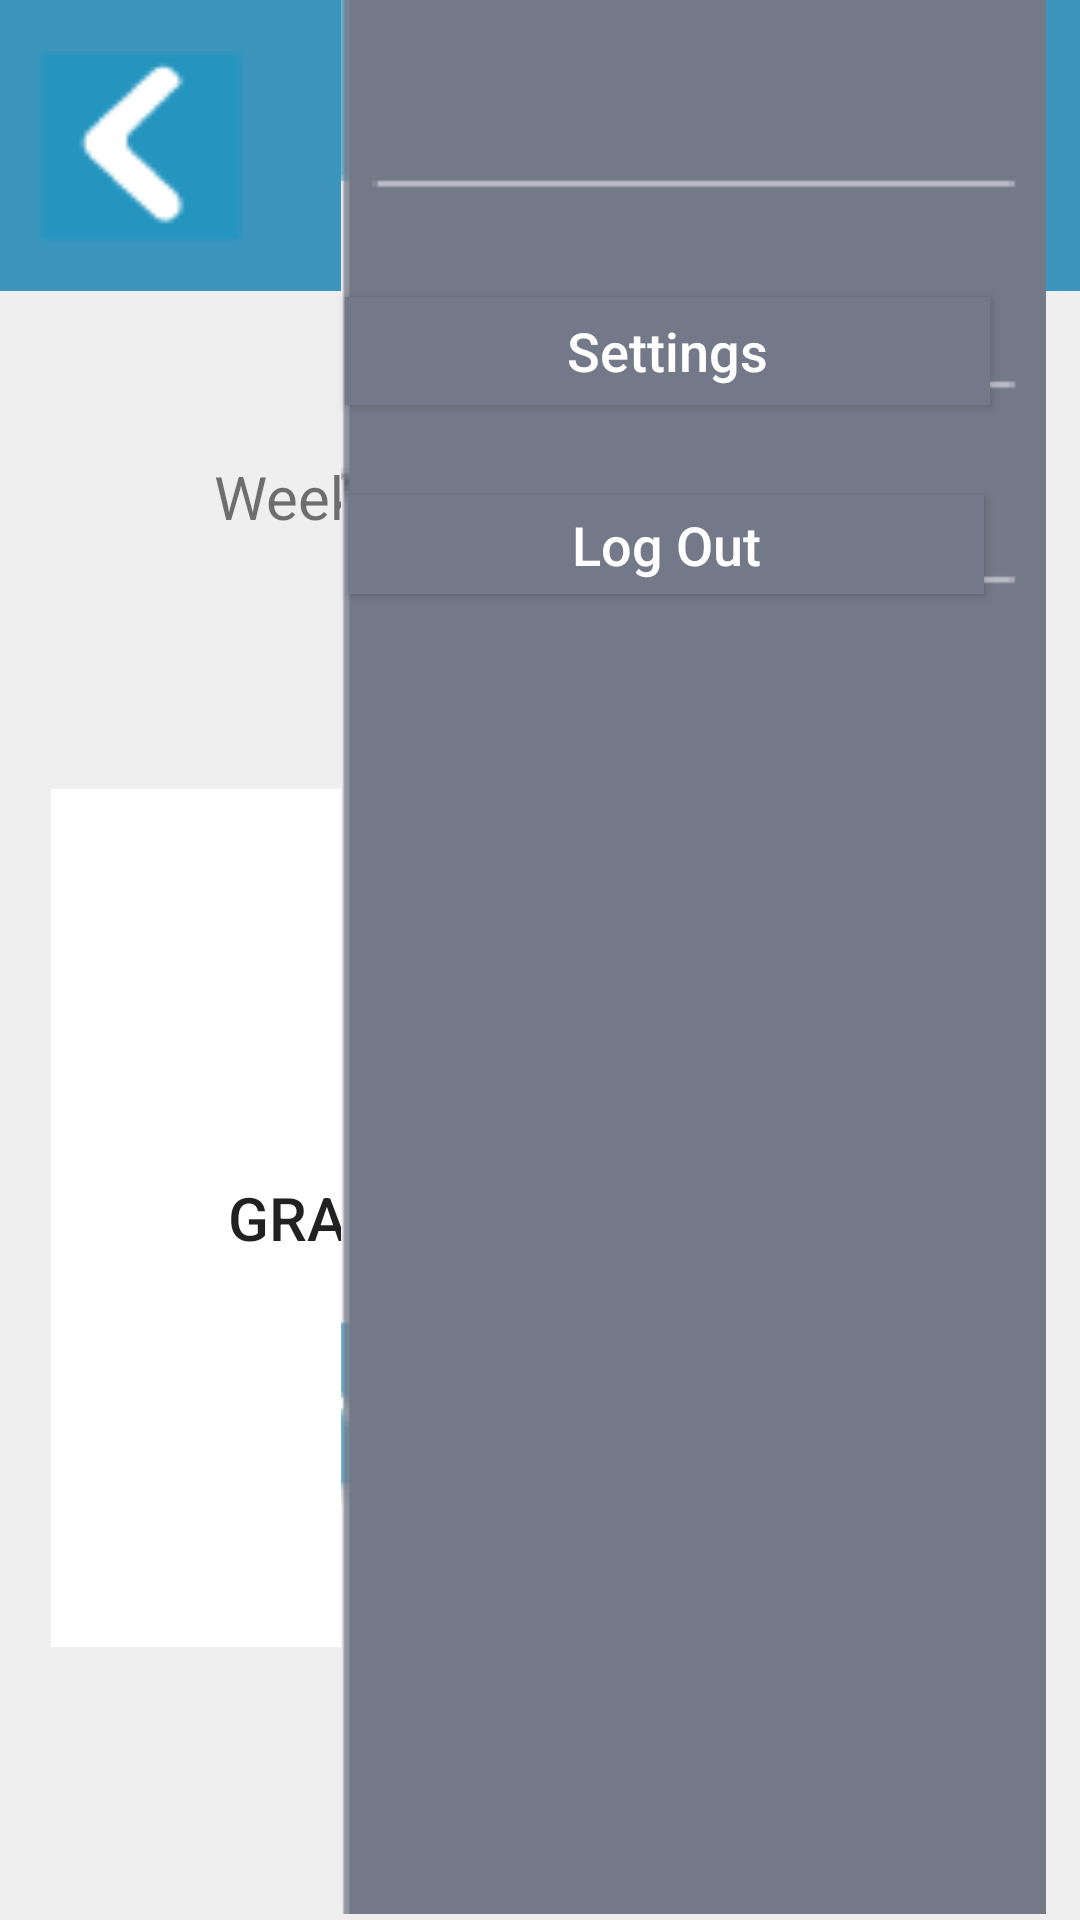

Where icons sit on this 1080x1920 app screen, as (x1, y1, x2, y2):
backarrow: (39, 54, 243, 240)
